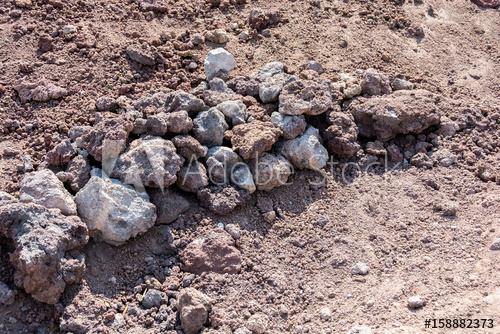volcanic_rock: (1, 205, 92, 309), (340, 78, 455, 144), (72, 177, 161, 236), (10, 159, 80, 217), (271, 69, 334, 124), (224, 121, 285, 155), (192, 183, 250, 217)
